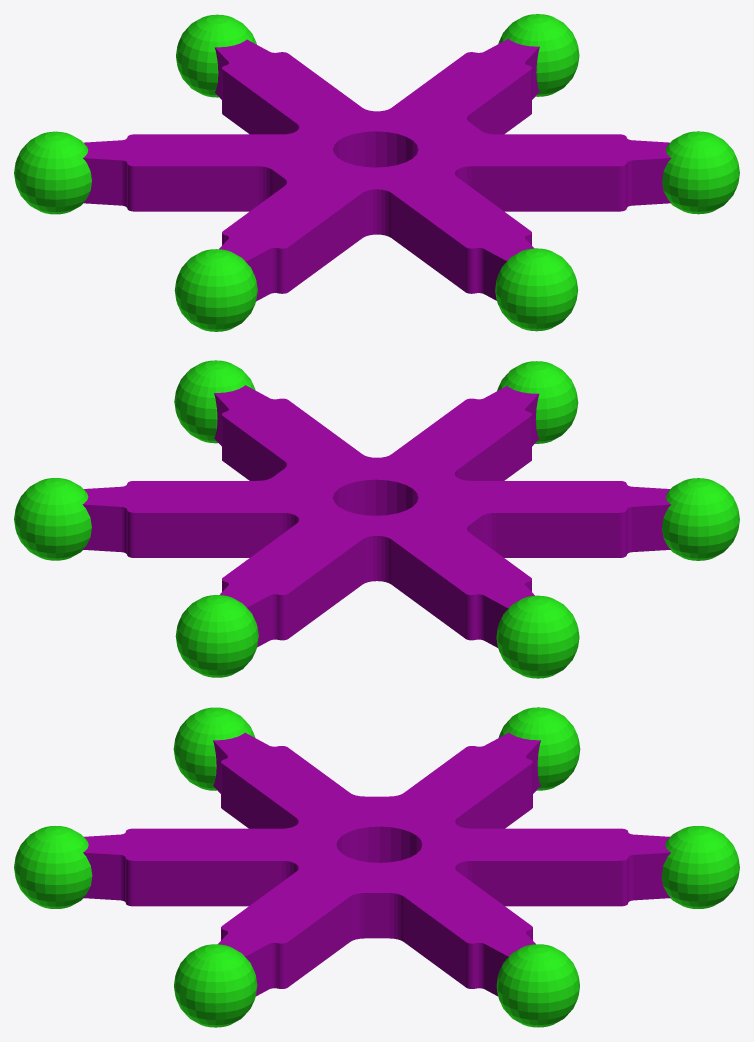
Rendered from star6u.fbx.
3 renders of one model, top to bottom at view 1: azimuth 30°, elevation 25°; view 2: azimuth 150°, elevation 25°; view 3: azimuth 270°, elevation 25°, orthographic.
Parts seen in each view (by area): view 1: star_6_u, c3, c4, c5, c2, c1, c0; view 2: star_6_u, c5, c0, c4, c1, c2, c3; view 3: star_6_u, c2, c1, c3, c0, c4, c5.
Boxes of the visible parts, bbox=[...] form: star_6_u: bbox=[83, 39, 671, 301]; c3: bbox=[495, 248, 578, 331]; c4: bbox=[174, 249, 257, 331]; c5: bbox=[14, 131, 91, 214]; c2: bbox=[662, 131, 739, 214]; c1: bbox=[498, 14, 579, 96]; c0: bbox=[176, 14, 256, 97]; star_6_u: bbox=[82, 385, 671, 647]; c5: bbox=[496, 595, 579, 678]; c0: bbox=[175, 595, 258, 677]; c4: bbox=[662, 478, 739, 560]; c1: bbox=[14, 478, 91, 560]; c2: bbox=[174, 360, 255, 443]; c3: bbox=[497, 361, 578, 443]; star_6_u: bbox=[83, 732, 670, 996]; c2: bbox=[174, 944, 257, 1027]; c1: bbox=[496, 944, 579, 1027]; c3: bbox=[14, 826, 92, 908]; c0: bbox=[661, 826, 739, 908]; c4: bbox=[173, 707, 255, 790]; c5: bbox=[498, 707, 580, 790].
Size of the model in its own units: 38.5 by 5 by 43.4.
